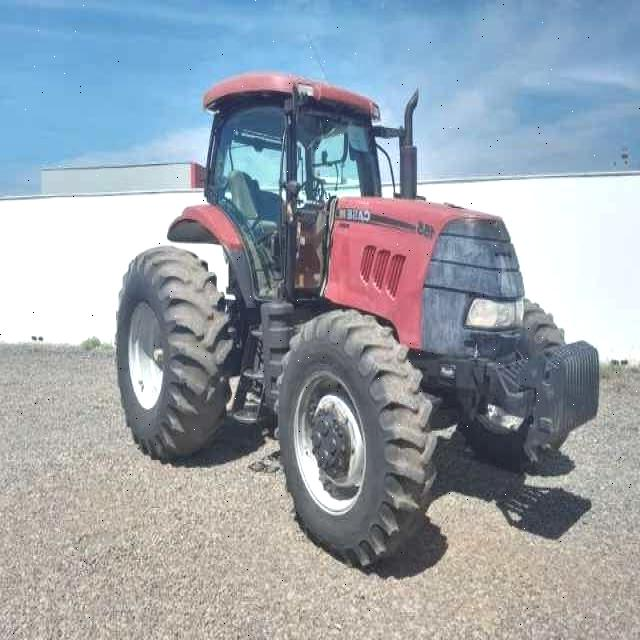Tratores - v5 YOLO V8L 2024-11-13: (124, 79, 596, 576)
